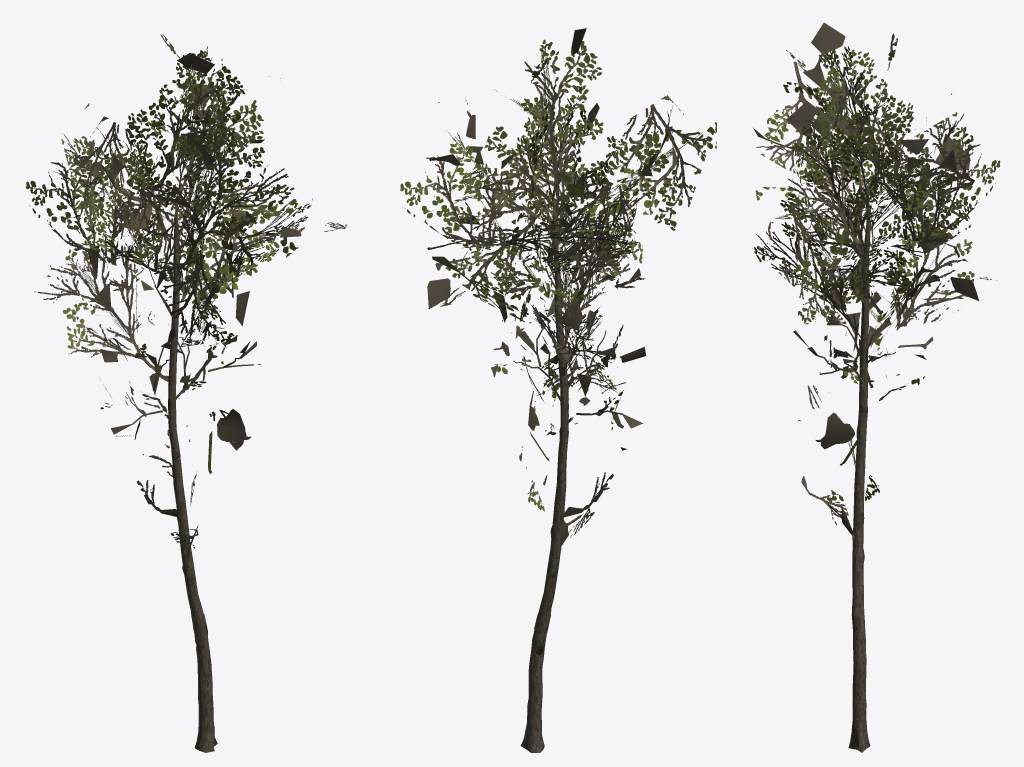
The model's file is SM_BlackAlder_Forest_06_PP_LOD4.gltf.
3 renders of one model, left to right at view 1: azimuth 30°, elevation 25°; view 2: azimuth 150°, elevation 25°; view 3: azimuth 270°, elevation 25°, orthographic.
Visible parts, largest first — view 1: SM_BlackAlder_Forest_06_PP; view 2: SM_BlackAlder_Forest_06_PP; view 3: SM_BlackAlder_Forest_06_PP.
Boxes of the visible parts, left/top/right/bottom form: SM_BlackAlder_Forest_06_PP: left=26, top=34, right=346, bottom=752; SM_BlackAlder_Forest_06_PP: left=400, top=28, right=716, bottom=752; SM_BlackAlder_Forest_06_PP: left=752, top=22, right=1000, bottom=752.
Size of the model in its own units: 3.71 by 9.04 by 2.98.
Materials: 3 (3 with a texture image).
